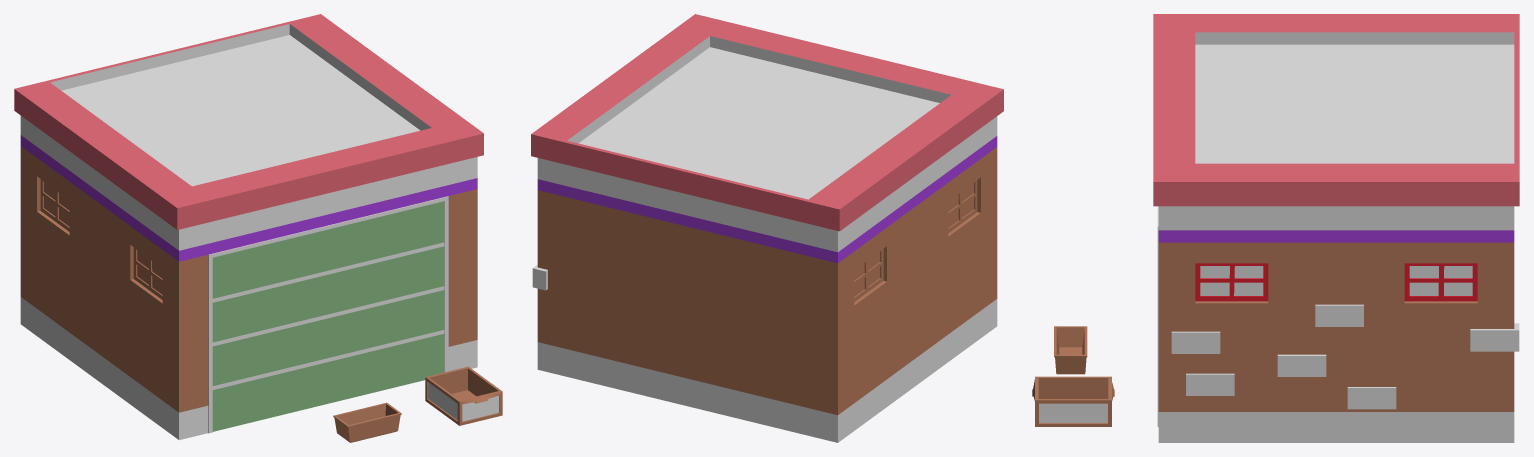
File: buidlgin-2.fbx
3 views of the same model, side by side, from view 1: azimuth 30°, elevation 25°; view 2: azimuth 150°, elevation 25°; view 3: azimuth 270°, elevation 25° (orthographic). The views are drawn at different scales.
Visible parts, largest first — view 1: Building_1.001, Gate, pCube2, Basket; view 2: Building_1.001; view 3: Building_1.001, pCube2, Basket, Cube.003, Cube.001, Cube.004, Cube.005, Cube, Cube.002.
Part boxes in pixels (left/top/right/bottom): Building_1.001: left=14, top=14, right=483, bottom=440; Gate: left=208, top=196, right=448, bottom=433; pCube2: left=425, top=366, right=502, bottom=425; Basket: left=333, top=402, right=401, bottom=442; Building_1.001: left=531, top=14, right=1003, bottom=442; Building_1.001: left=1153, top=14, right=1519, bottom=442; pCube2: left=1032, top=376, right=1114, bottom=426; Basket: left=1054, top=326, right=1087, bottom=374; Cube.003: left=1470, top=323, right=1519, bottom=351; Cube.001: left=1277, top=354, right=1326, bottom=376; Cube.004: left=1171, top=331, right=1220, bottom=353; Cube.005: left=1347, top=387, right=1396, bottom=409; Cube: left=1186, top=373, right=1234, bottom=395; Cube.002: left=1315, top=304, right=1363, bottom=326.
Bounding box in the file's own units: 748 × 548 × 918.
